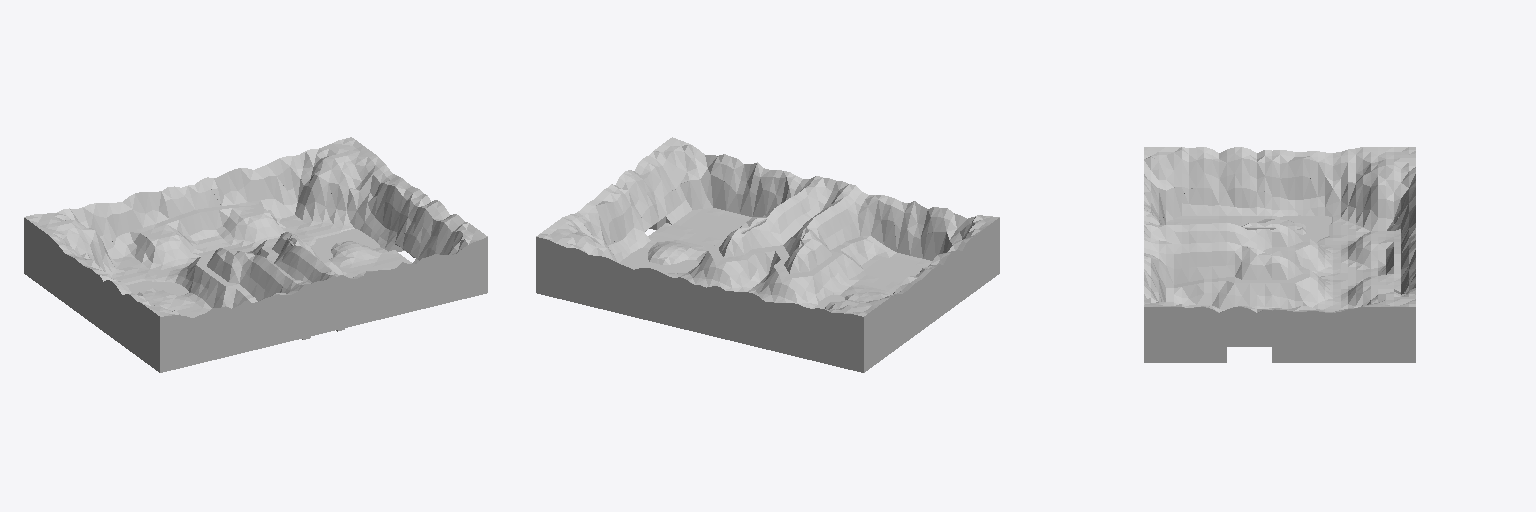
The model's file is coagulation.obj.
3 renders of one model, left to right at view 1: azimuth 30°, elevation 25°; view 2: azimuth 150°, elevation 25°; view 3: azimuth 270°, elevation 25°, orthographic.
Visible parts, largest first — view 1: entity0_brush1788, entity0_brush1797, entity0_brush3587; view 2: entity0_brush1788, entity0_brush1868; view 3: entity0_brush3587.
Boxes of the visible parts, x1=… form: entity0_brush1788: x1=311, y1=229, x2=401, y2=258; entity0_brush1797: x1=156, y1=314, x2=166, y2=372; entity0_brush3587: x1=126, y1=281, x2=188, y2=295; entity0_brush1788: x1=619, y1=247, x2=699, y2=273; entity0_brush1868: x1=857, y1=314, x2=867, y2=372; entity0_brush3587: x1=1280, y1=215, x2=1331, y2=241.
Size of the model in its own units: 12800 by 2168 by 9216.